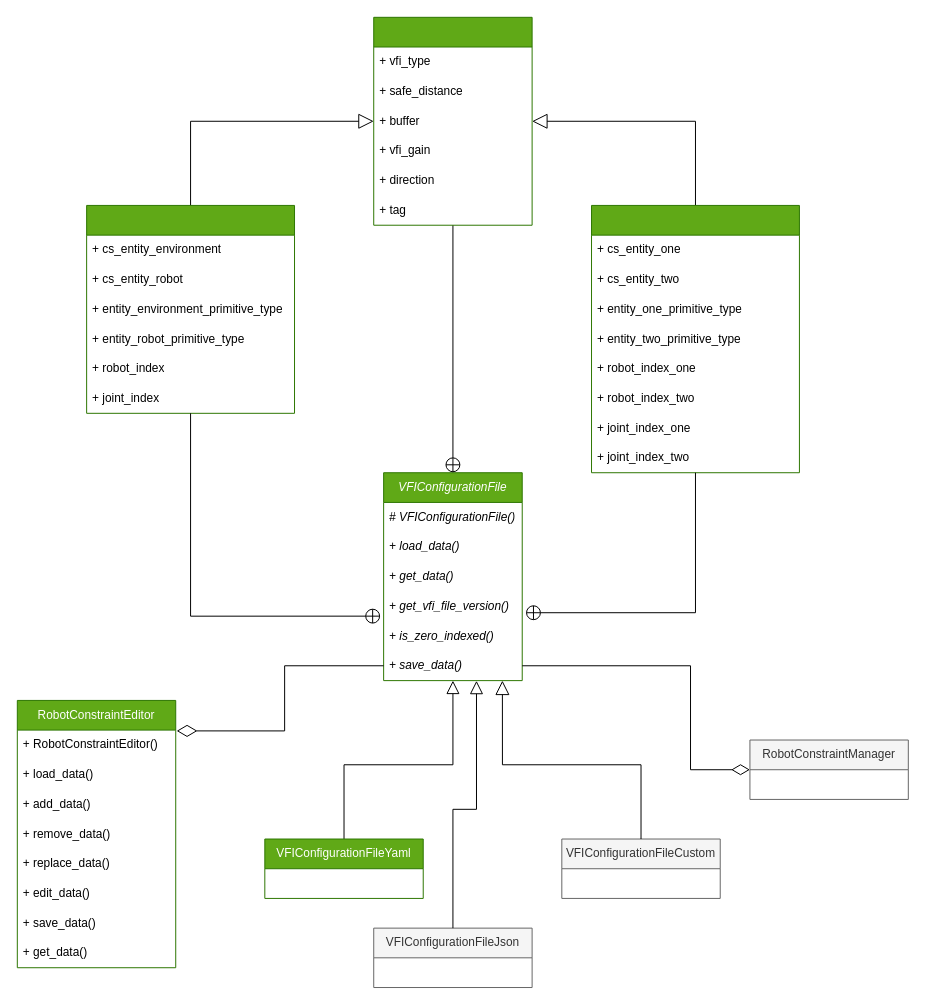
This 926x1005 diagram has some shape labels left out. Each missing label, with the box of its shape:
BASE_DATA: (373, 16, 532, 225)
ENVIRONMENT_TO_ROBOT_DATA: (86, 204, 295, 413)
ROBOT_TO_ROBOT_DATA: (591, 204, 799, 473)
